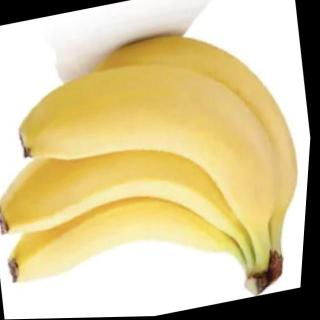banana: (0, 37, 298, 275), (54, 12, 318, 264), (0, 105, 269, 288), (0, 162, 253, 300)
